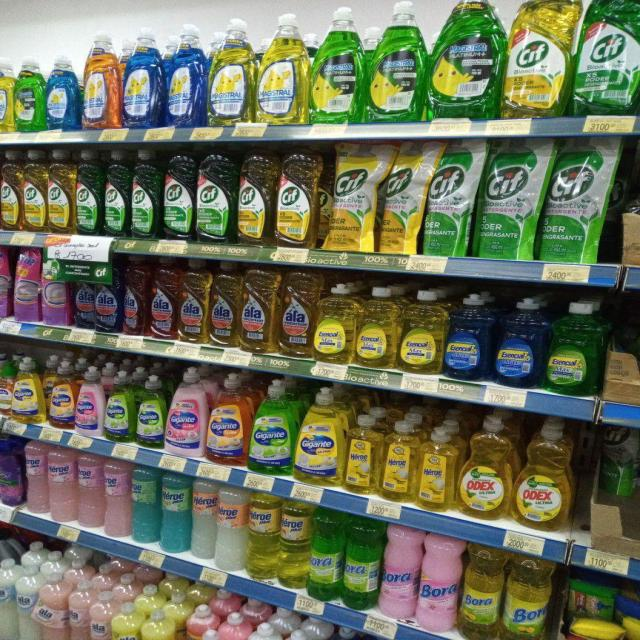ala_conc_amarillo: (240, 266, 276, 353), (278, 270, 314, 357), (209, 260, 239, 348), (179, 258, 208, 344)
ala_conc_azul: (95, 254, 121, 334), (72, 282, 94, 330)
ala_conc_rojo: (149, 256, 178, 340), (122, 255, 148, 336)
ala_crem_blanco: (16, 558, 40, 640), (0, 561, 16, 640)
cif_conc_bot_amarilla: (506, 0, 573, 116), (276, 148, 318, 248), (237, 149, 274, 245), (47, 148, 74, 234), (23, 149, 47, 232), (0, 150, 22, 231)
cif_conc_botella_verde: (575, 0, 640, 116), (195, 148, 235, 244), (162, 148, 194, 240), (130, 148, 160, 239), (75, 148, 102, 235), (104, 148, 130, 238)
cif_conc_sachet_amarillo: (324, 141, 377, 252), (379, 140, 422, 255)
cif_conc_sachet_verde: (540, 136, 607, 262), (475, 138, 538, 260), (423, 139, 472, 257)
drive: (12, 244, 40, 325), (0, 245, 11, 321)
esencial: (546, 300, 600, 395), (493, 296, 544, 387), (444, 292, 491, 380), (399, 288, 443, 372), (356, 286, 398, 366), (315, 282, 355, 363)
gigante: (295, 386, 342, 486), (248, 378, 294, 476), (206, 372, 247, 464), (165, 367, 205, 457), (12, 356, 46, 423), (104, 370, 134, 442), (135, 374, 164, 448), (46, 358, 76, 429), (75, 364, 103, 435), (0, 351, 13, 416)
heroe: (418, 424, 458, 511), (381, 419, 418, 502), (344, 413, 380, 495), (248, 491, 280, 580), (216, 484, 247, 572), (280, 497, 309, 590), (160, 471, 190, 554), (48, 446, 76, 522), (104, 458, 130, 538), (191, 478, 216, 561), (77, 452, 103, 530), (134, 460, 156, 546), (25, 440, 48, 514)
magistral_con_amarillo: (257, 12, 308, 124), (208, 17, 254, 126), (0, 54, 14, 134)
magistral_con_azul: (122, 25, 162, 129), (165, 21, 204, 127), (46, 51, 78, 130)
magistral_con_rojo: (82, 30, 120, 130)
magistral_con_verde: (430, 0, 500, 117), (366, 0, 429, 121), (310, 4, 362, 125), (16, 58, 44, 132)
odex: (516, 417, 574, 530), (458, 413, 514, 520)
